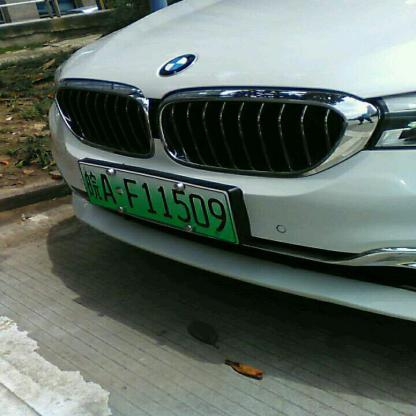lp: (77, 162, 237, 242)
